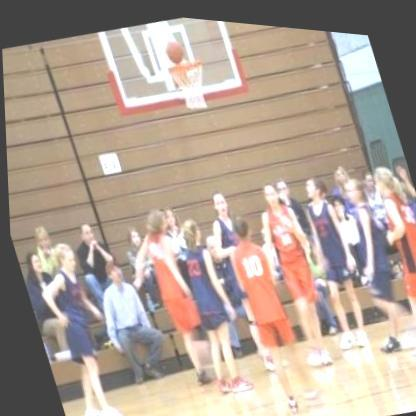basketball: (161, 32, 185, 62)
